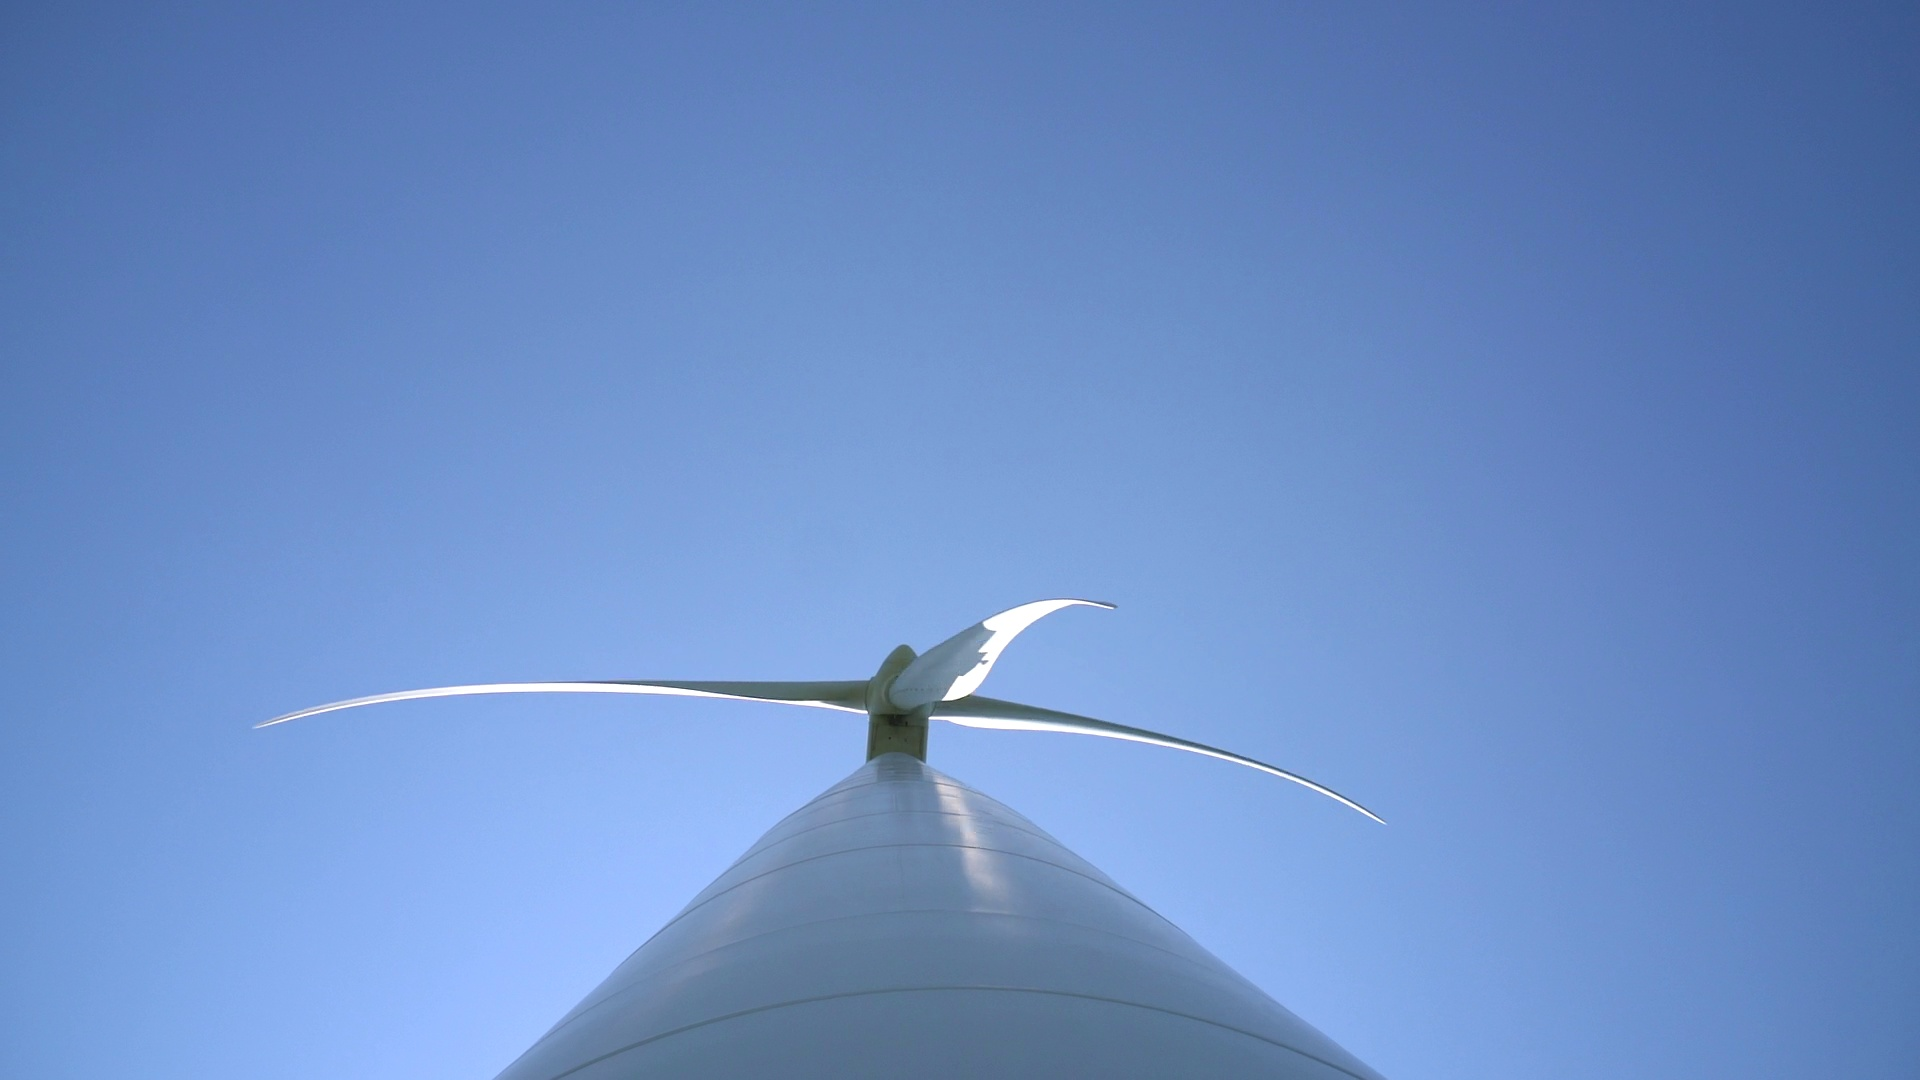turbine: (219, 636, 880, 771), (947, 673, 1416, 833), (890, 588, 1163, 738)
